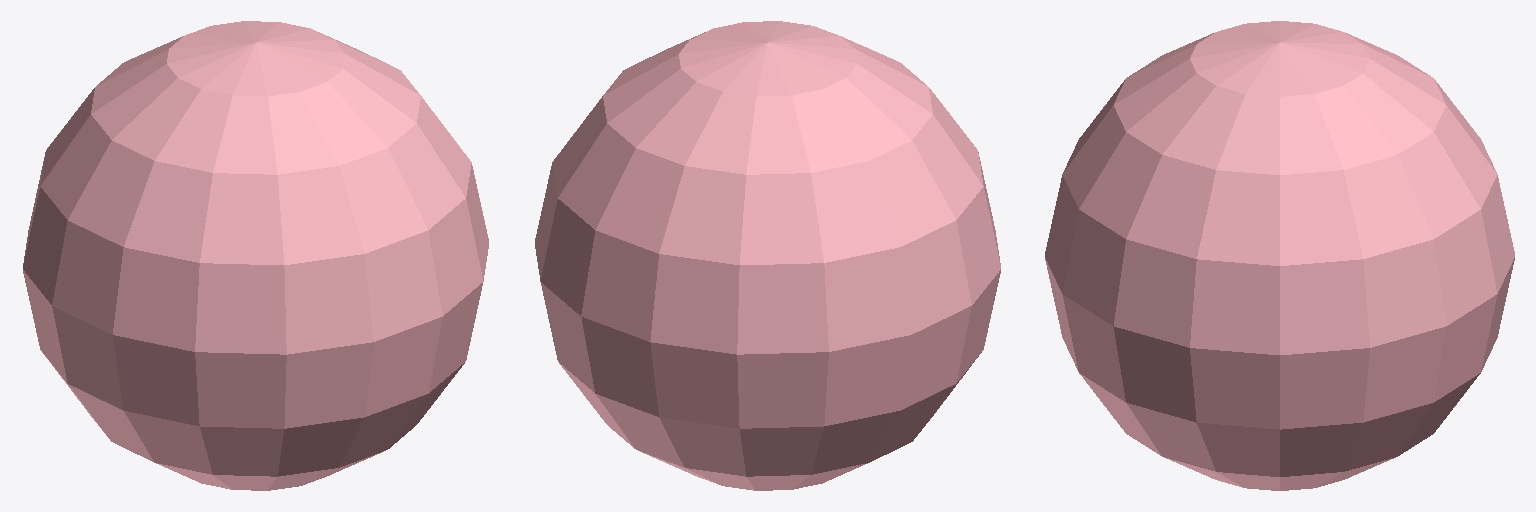
The model's file is ballpink.obj.
3 views of the same model, side by side, from view 1: azimuth 30°, elevation 25°; view 2: azimuth 150°, elevation 25°; view 3: azimuth 270°, elevation 25° (orthographic).
Visible parts, largest first — view 1: Sphere; view 2: Sphere; view 3: Sphere.
Boxes of the visible parts, box(x1,y1,x2,y2) form: Sphere: box(23, 21, 488, 490); Sphere: box(535, 21, 1000, 490); Sphere: box(1045, 21, 1514, 490).
Bounding box in the file's own units: 2 × 2 × 2.